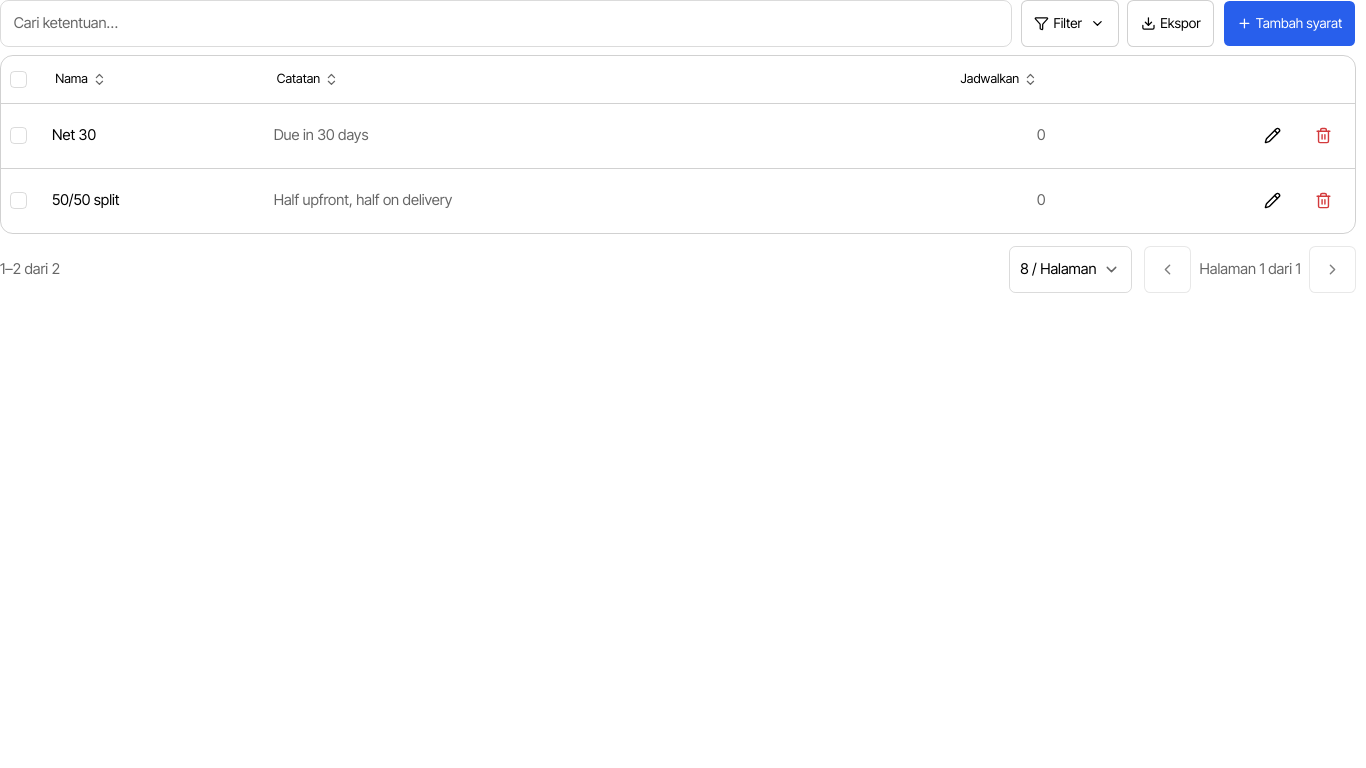
PaymentTermsSection › deletes a payment term after confirmation
Check: the text "Net 30" is shown, box [52, 126, 96, 144]
Click the button named "Hapus" in the row of "Net 30".
click(1323, 136)  # box [1300, 112, 1347, 159]
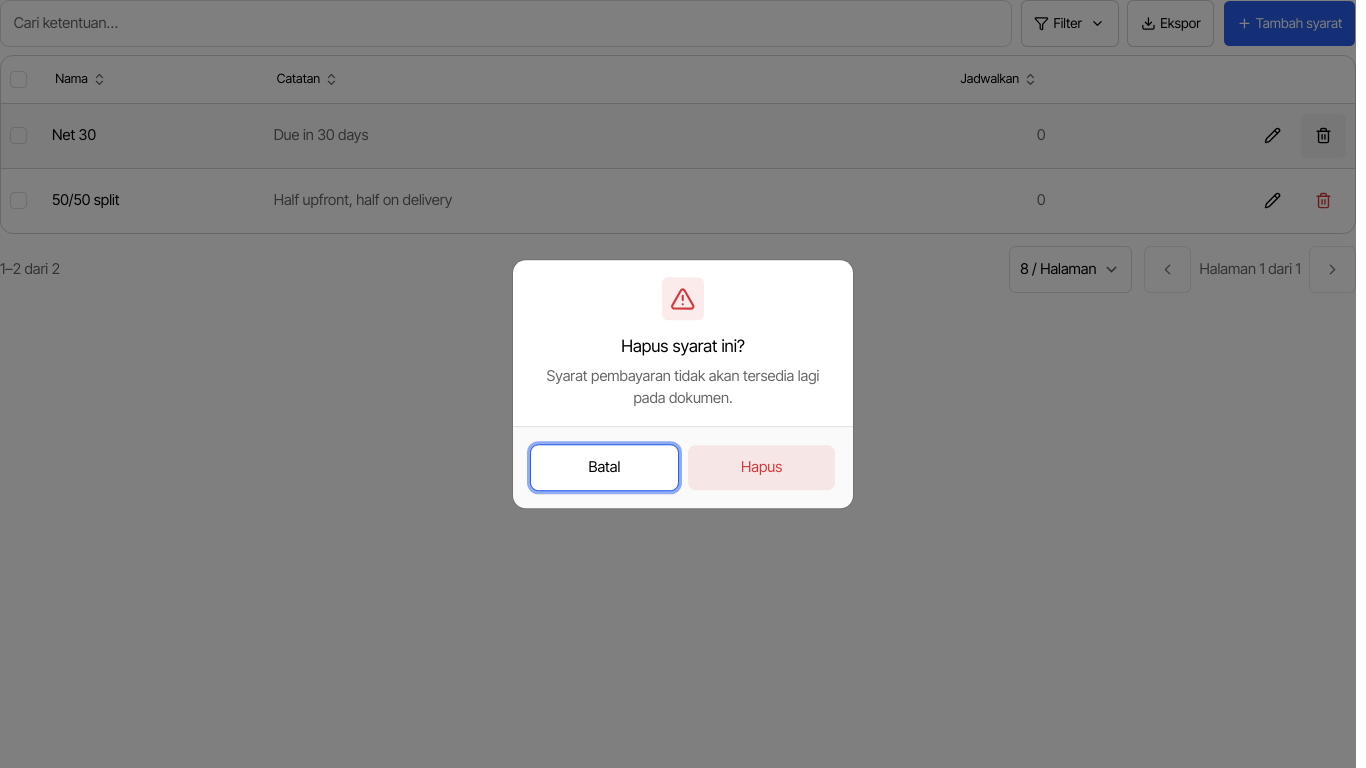
Click the button "Hapus".
click(762, 467)  # box [687, 444, 836, 491]
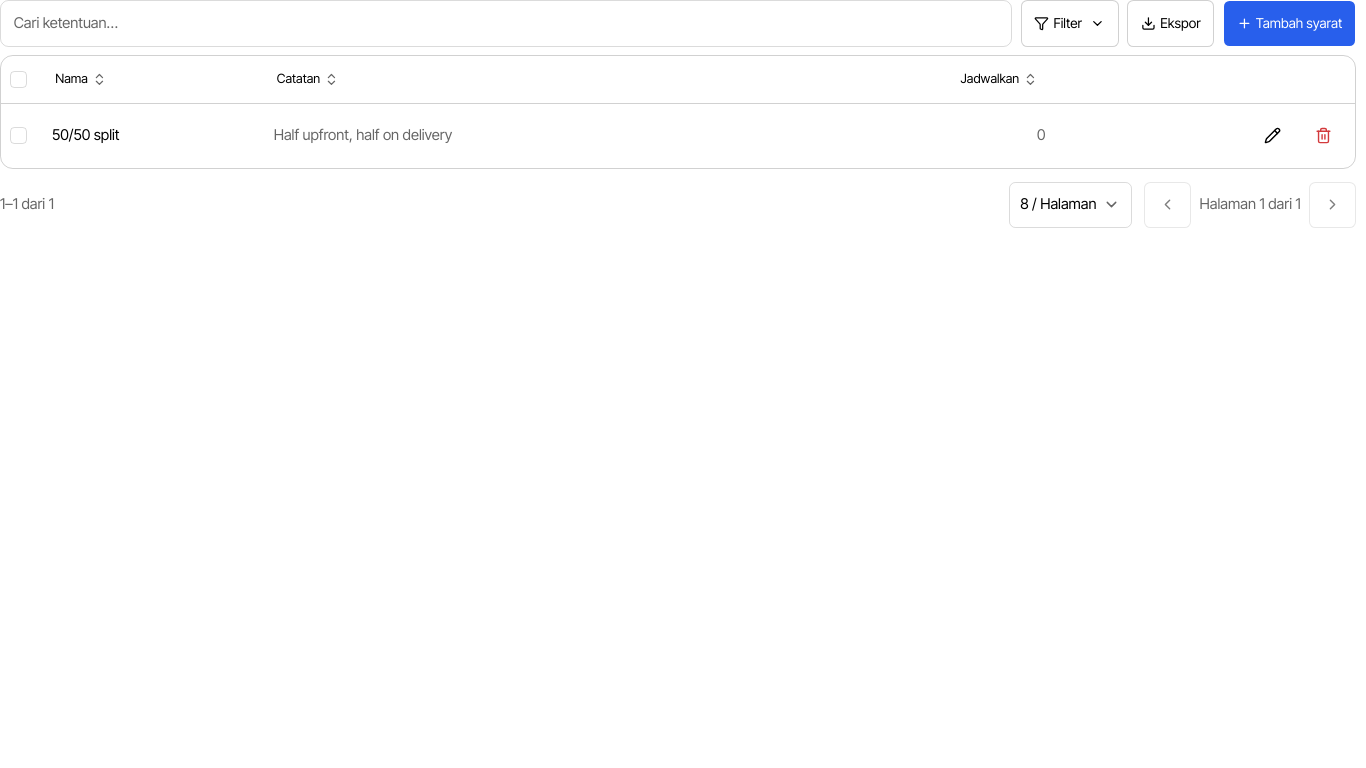
Check: the text "Net 30" is gone
